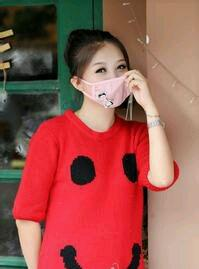OK: (85, 55, 136, 106)
